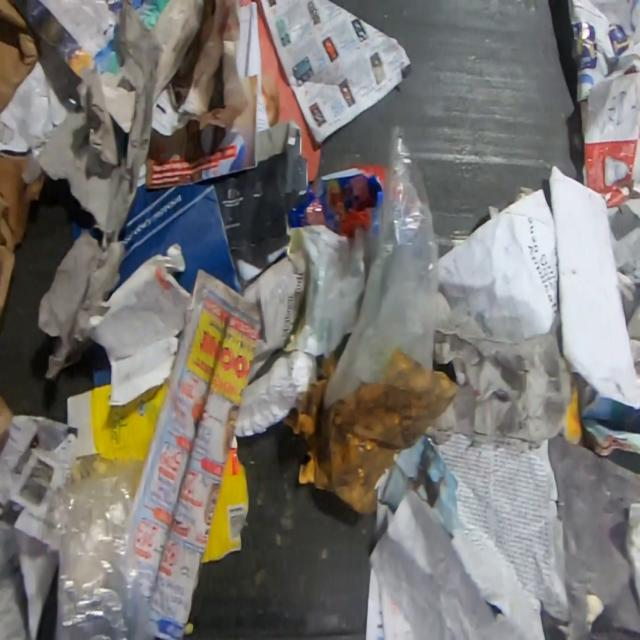cardboard: (283, 348, 460, 516), (0, 0, 46, 327), (66, 378, 170, 504), (201, 430, 251, 564)
soft_plastic: (314, 126, 439, 405), (49, 468, 156, 640), (552, 436, 640, 637)
